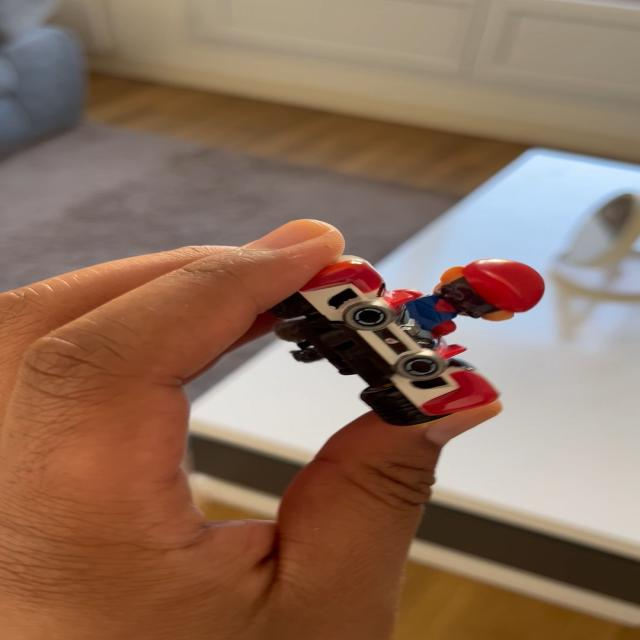mario: (269, 240, 565, 440)
